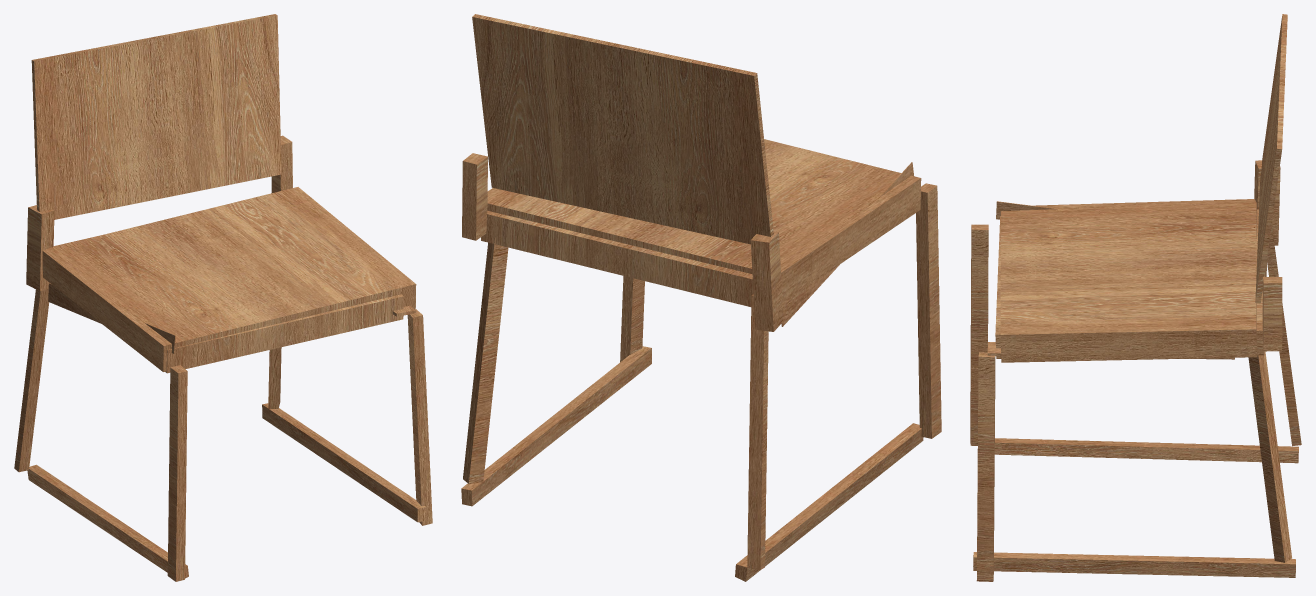
The model's file is 3271_ours.glb.
3 views of the same model, side by side, from view 1: azimuth 30°, elevation 25°; view 2: azimuth 150°, elevation 25°; view 3: azimuth 270°, elevation 25° (orthographic). The views are drawn at different scales.
Visible parts, largest first — view 1: ParentEmpty; view 2: ParentEmpty; view 3: ParentEmpty.
Boxes of the visible parts, <box> form: ParentEmpty: <box>14,14,432,581</box>; ParentEmpty: <box>461,14,941,581</box>; ParentEmpty: <box>970,14,1301,581</box>.
Size of the model in its own units: 0.6537 by 1 by 0.6739.
Materials: 1 (1 with a texture image).
